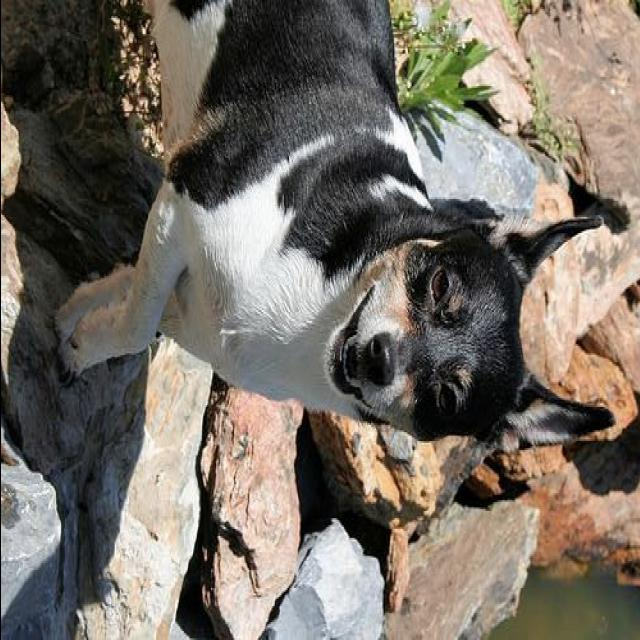toy_terrier: (49, 0, 618, 446)
